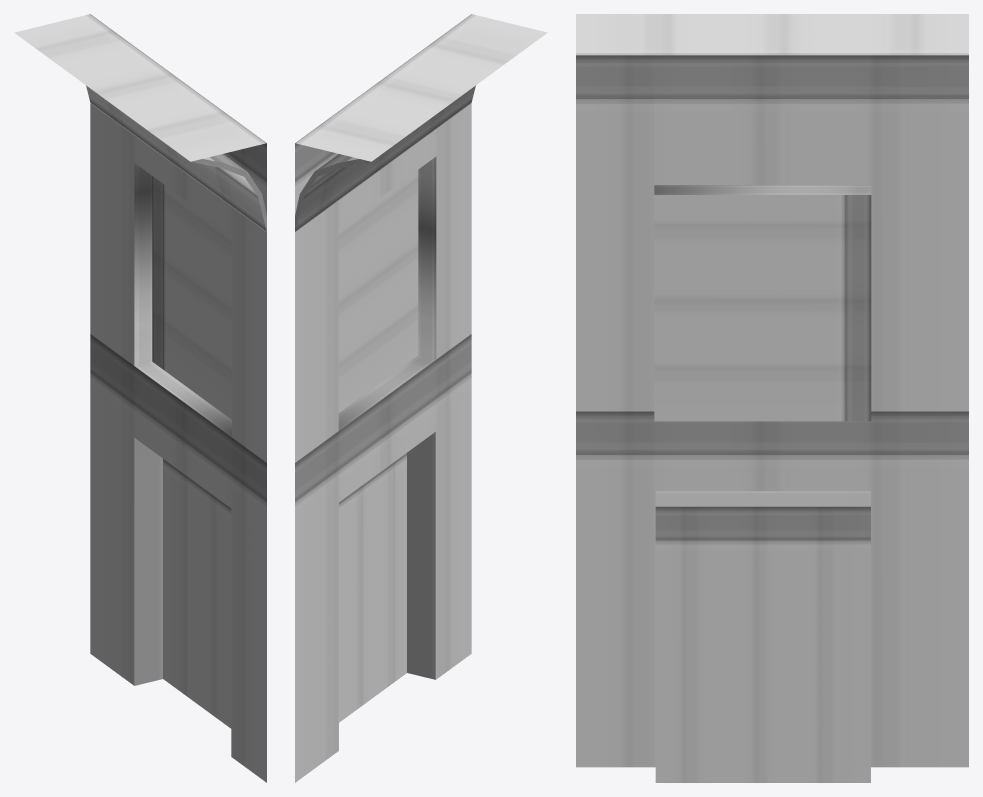
The model's file is spaceStation_wall_e.fbx.
The picture shows the model from 3 angles, left to right: view 1: azimuth 30°, elevation 25°; view 2: azimuth 150°, elevation 25°; view 3: azimuth 270°, elevation 25°; orthographic projection. The views are drawn at different scales.
Parts seen in each view (by area): view 1: Plane, GridDoor; view 2: Plane, GridDoor; view 3: Plane, GridDoor.
Part boxes in pixels (left/top/right/bottom): Plane: left=14, top=14, right=266, bottom=782; GridDoor: left=152, top=176, right=231, bottom=728; Plane: left=295, top=14, right=547, bottom=782; GridDoor: left=338, top=170, right=418, bottom=722; Plane: left=576, top=14, right=968, bottom=767; GridDoor: left=654, top=195, right=871, bottom=782.
Bounding box in the file's own units: 1.38 × 8 × 4.
1 material, 1 textured.
